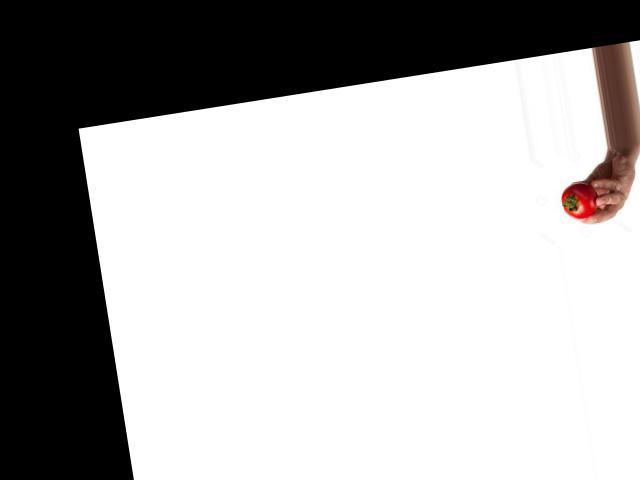tomato: (558, 179, 600, 221)
